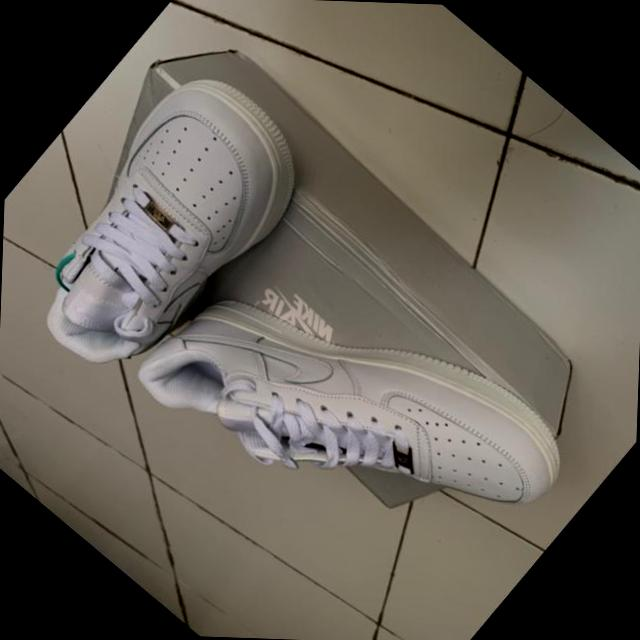nike_fake_airforce: (108, 179, 604, 640), (0, 47, 330, 410)
